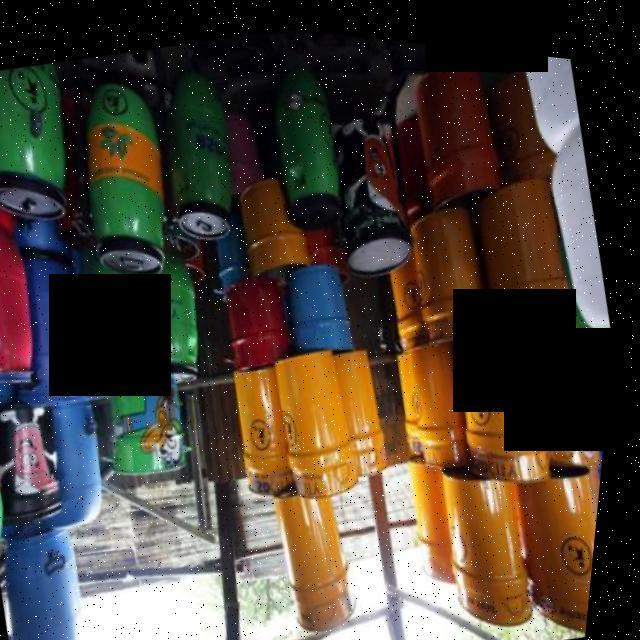bin: (54, 63, 203, 288), (428, 442, 559, 630), (136, 51, 257, 250), (250, 46, 365, 234), (390, 33, 514, 205), (262, 330, 380, 498), (269, 471, 386, 636), (509, 445, 610, 631), (0, 56, 91, 242), (0, 515, 113, 640)
